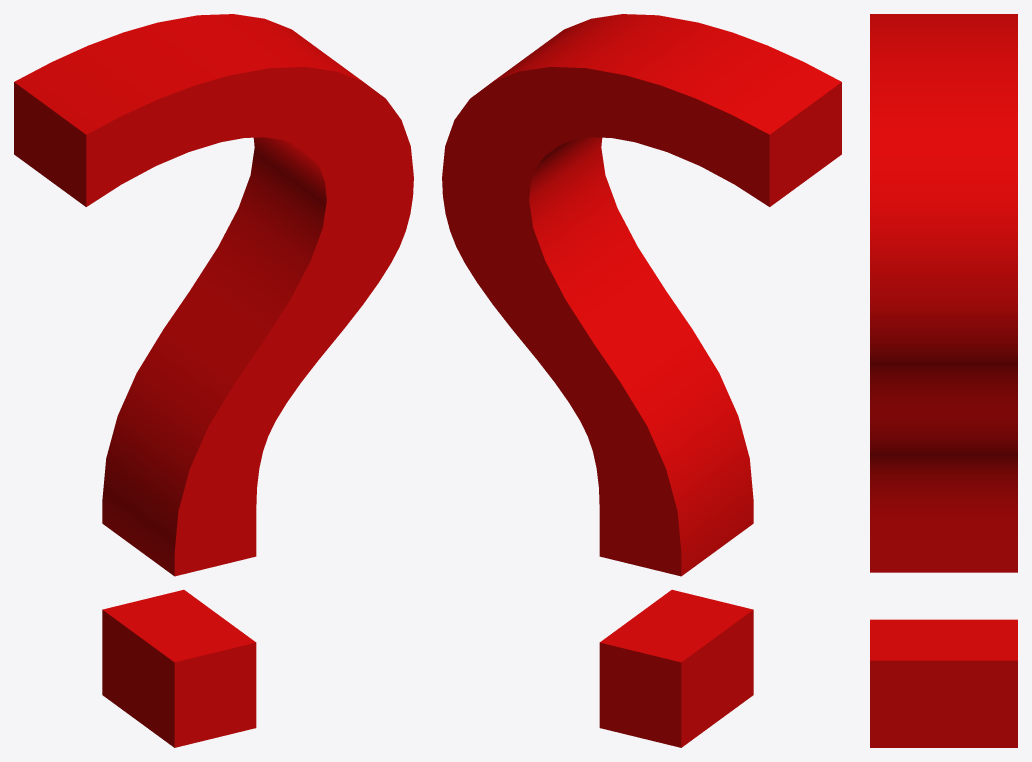
File: question_mark.fbx
3 renders of one model, left to right at view 1: azimuth 30°, elevation 25°; view 2: azimuth 150°, elevation 25°; view 3: azimuth 270°, elevation 25°, orthographic. The views are drawn at different scales.
Parts seen in each view (by area): view 1: typeMesh1; view 2: typeMesh1; view 3: typeMesh1.
Boxes of the visible parts, x1,y1,x2,y2 form: typeMesh1: (14, 14, 413, 747); typeMesh1: (442, 14, 841, 747); typeMesh1: (870, 14, 1017, 747).
Size of the model in its own units: 1.4 by 2.69 by 0.535.
